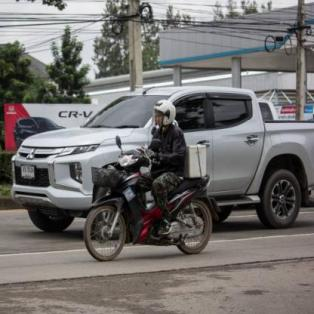Motocicleta: (74, 143, 217, 259)
